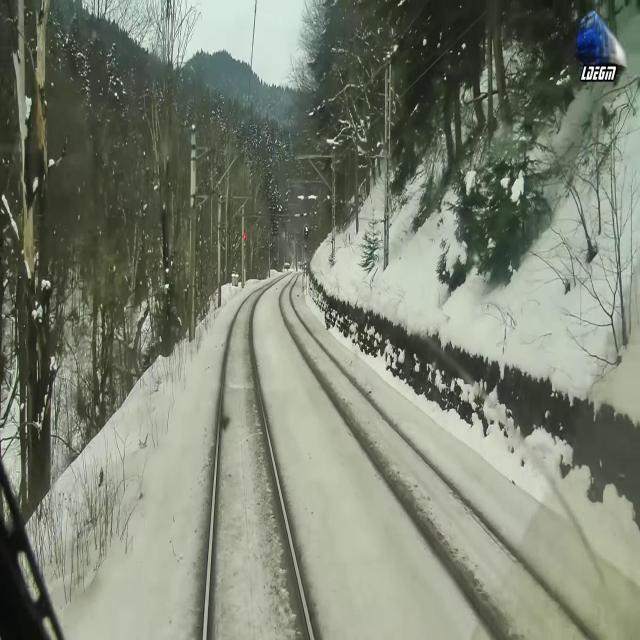rail-track: (280, 274, 589, 639), (207, 285, 310, 639)
